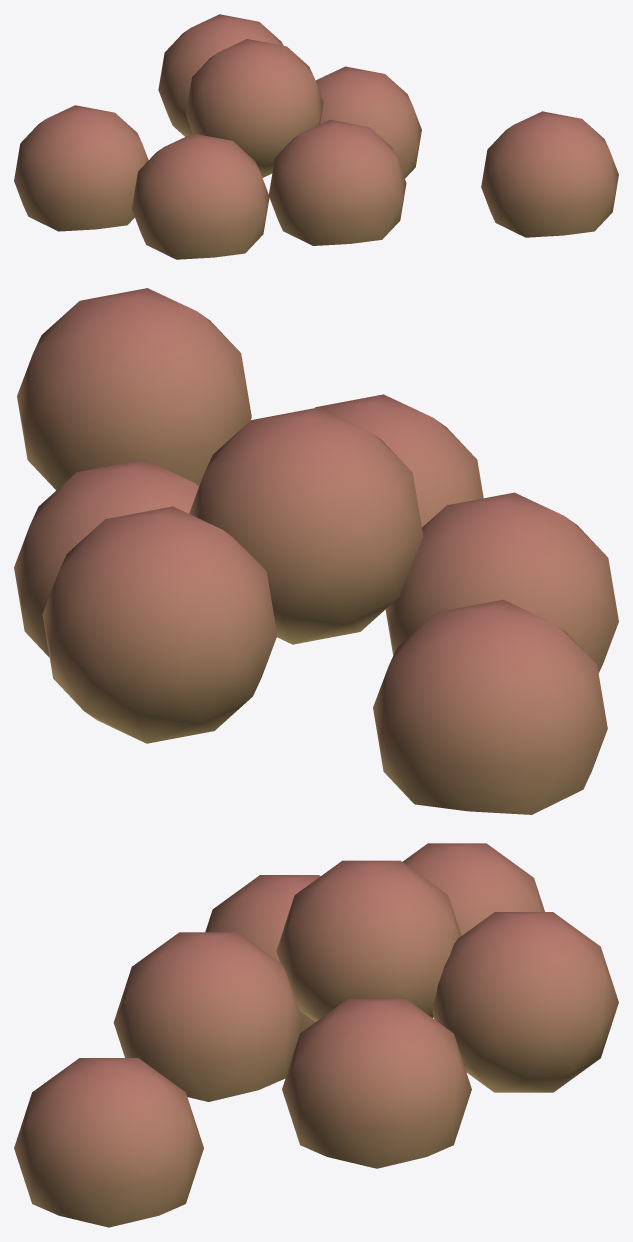
3 renders of one model, top to bottom at view 1: azimuth 30°, elevation 25°; view 2: azimuth 150°, elevation 25°; view 3: azimuth 270°, elevation 25°, orthographic. The views are drawn at different scales.
Visible parts, largest first — view 1: Icosphere.001; view 2: Icosphere.001; view 3: Icosphere.001.
Boxes of the visible parts, x1=… form: Icosphere.001: x1=14, y1=14, x2=618, y2=259; Icosphere.001: x1=14, y1=288, x2=618, y2=814; Icosphere.001: x1=14, y1=843, x2=618, y2=1227.
Bounding box in the file's own units: 29.44 × 9.47 × 25.19.
